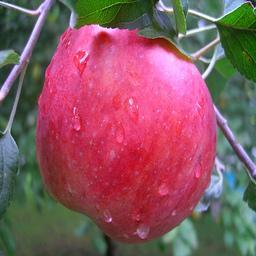apple: (37, 23, 219, 241)
